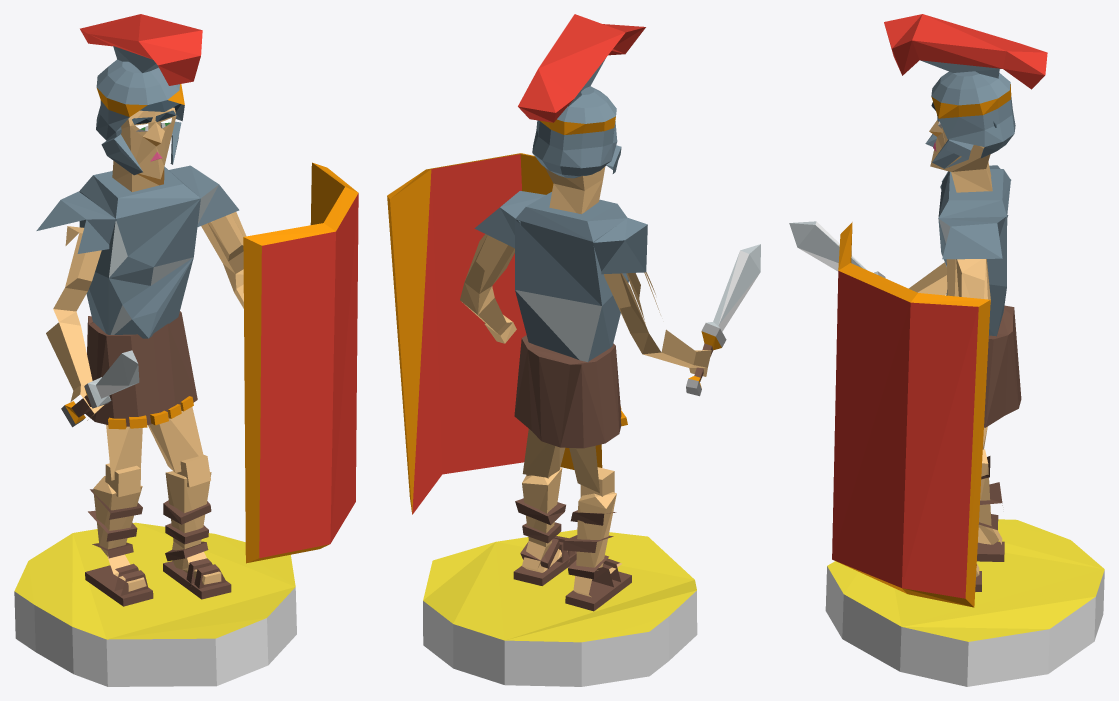
Rendered from History5.gltf.
3 views of the same model, side by side, from view 1: azimuth 30°, elevation 25°; view 2: azimuth 150°, elevation 25°; view 3: azimuth 270°, elevation 25° (orthographic). The views are drawn at different scales.
Visible parts, largest first — view 1: Node; view 2: Node; view 3: Node.
Part boxes in pixels (x1,y1,x2,y2): Node: (14,14,358,686); Node: (387,14,760,686); Node: (789,14,1104,686).
Bounding box in the file's own units: 6.31 × 12.75 × 6.14.
